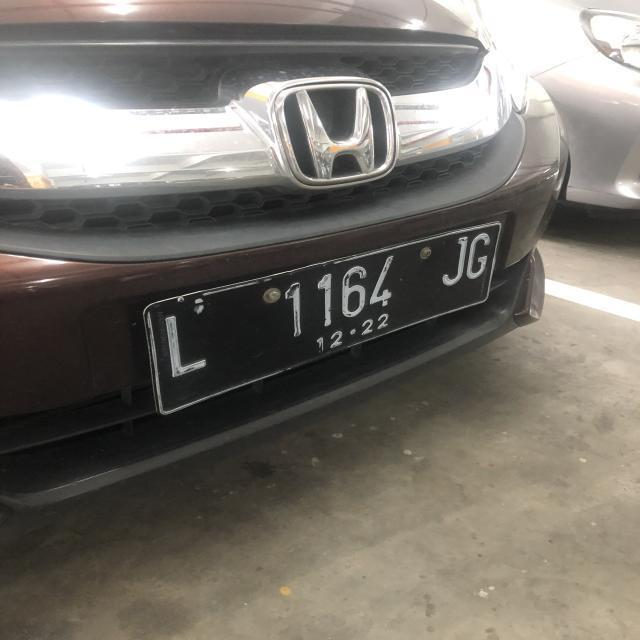1: (283, 280, 313, 342), (313, 270, 339, 332)
4: (372, 256, 398, 312)
6: (338, 264, 369, 316)
G: (464, 234, 492, 282)
J: (437, 236, 469, 286)
L: (160, 313, 217, 378)
